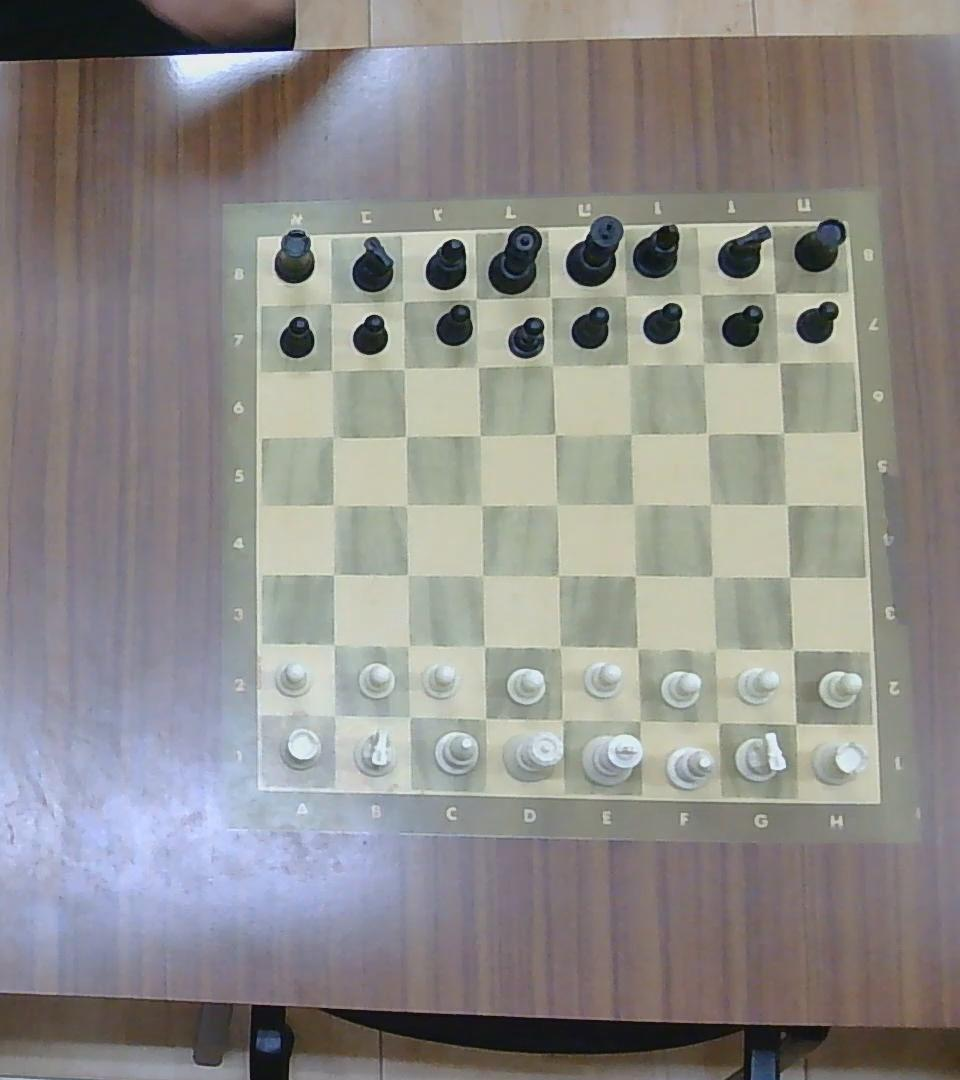xcorner: (777, 705, 811, 739), (619, 631, 653, 664), (701, 705, 734, 738), (621, 702, 654, 735), (545, 702, 578, 734), (696, 559, 729, 591), (318, 699, 350, 731), (543, 630, 575, 662), (698, 633, 730, 665), (393, 699, 424, 731), (469, 703, 500, 734), (774, 561, 805, 592), (393, 630, 423, 661), (468, 631, 499, 661), (776, 634, 807, 664), (318, 629, 349, 659), (620, 560, 650, 590), (543, 560, 573, 590), (467, 560, 496, 590), (393, 560, 422, 590), (619, 488, 649, 517), (319, 559, 348, 588), (542, 488, 571, 517), (460, 284, 489, 313), (615, 419, 645, 447), (535, 284, 565, 312), (611, 280, 639, 309), (695, 490, 724, 518), (319, 490, 348, 518), (464, 351, 492, 380), (467, 490, 495, 518), (317, 421, 345, 449), (614, 350, 642, 378), (537, 350, 566, 377), (541, 420, 570, 447), (317, 354, 345, 381), (393, 489, 421, 516), (693, 418, 721, 445), (769, 418, 797, 445), (772, 491, 801, 517), (316, 289, 345, 314), (465, 421, 493, 446), (392, 422, 418, 448), (688, 280, 714, 306), (390, 287, 415, 313), (762, 279, 788, 304), (690, 350, 715, 375), (390, 355, 414, 380), (766, 350, 791, 374)
